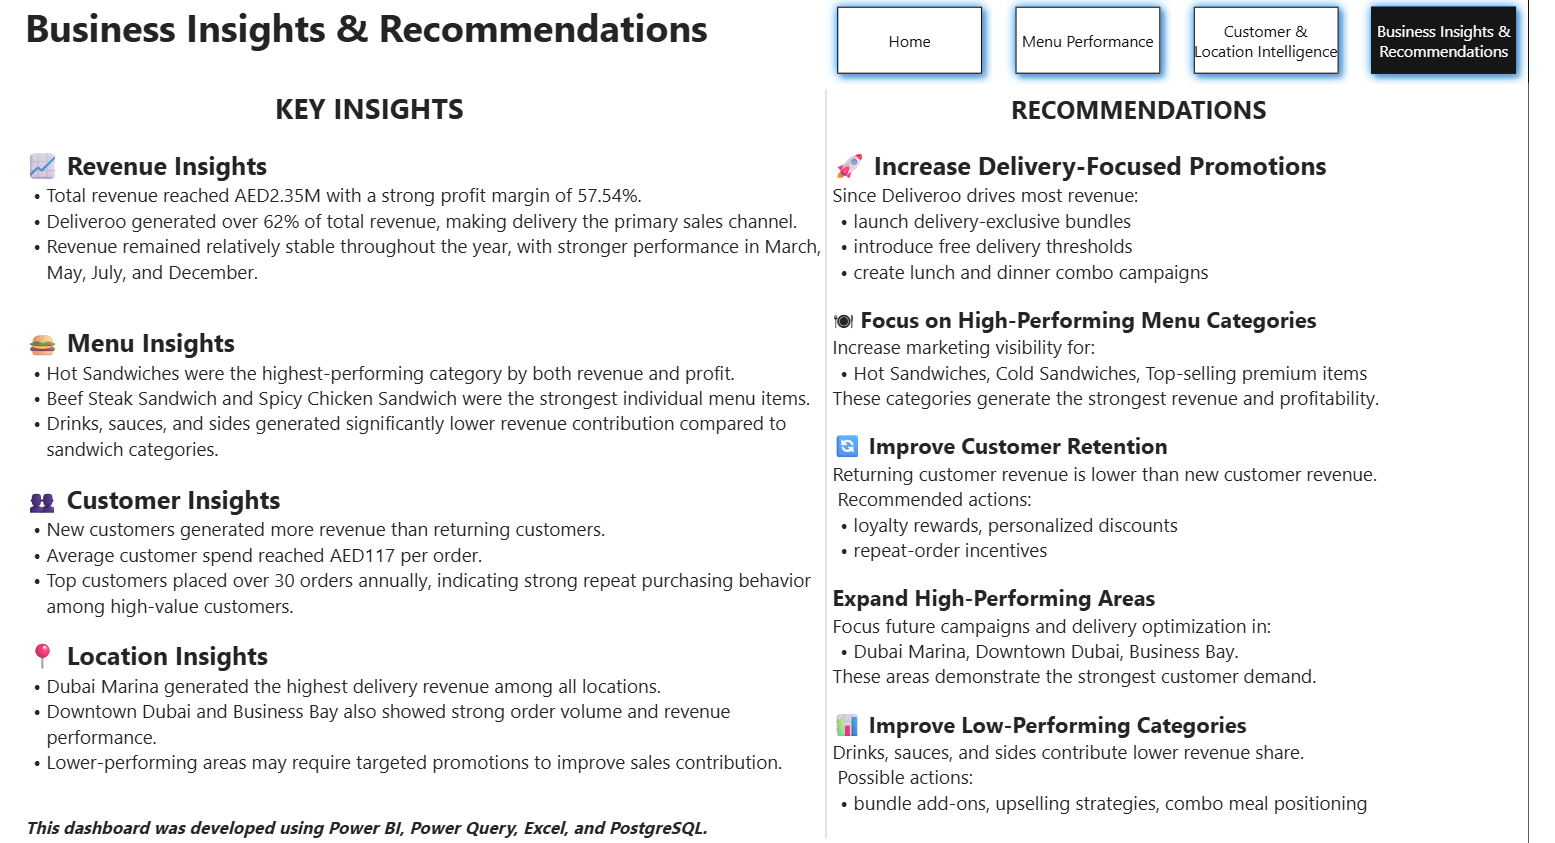

What the dashboard file says about the page in this screenshot:
{"tool":"powerbi","page":{"name":"Business Insights & Recommendations","canvas":[1280,720],"ordinal":3},"visuals":[{"type":"textbox","box":[0,74.7,696.7,645.5],"z":0},{"type":"textbox","box":[684.4,74.4,595.6,646],"z":1000},{"type":"textbox","box":[0,0,684.8,75],"z":2000},{"type":"pageNavigator","box":[684.8,0,595.2,75],"z":3000}]}

Visuals, with their boxes on the page's 1280x720 design canvas (x1, y1, x2, y2). These are canvas units, not pixel positions in the 1555x843 screenshot, which may show the page scaled, cropped or inside an application window:
textbox: pyautogui.locateOnScreen(0, 75, 697, 720)
textbox: pyautogui.locateOnScreen(684, 74, 1280, 720)
textbox: pyautogui.locateOnScreen(0, 0, 685, 75)
pageNavigator: pyautogui.locateOnScreen(685, 0, 1280, 75)
